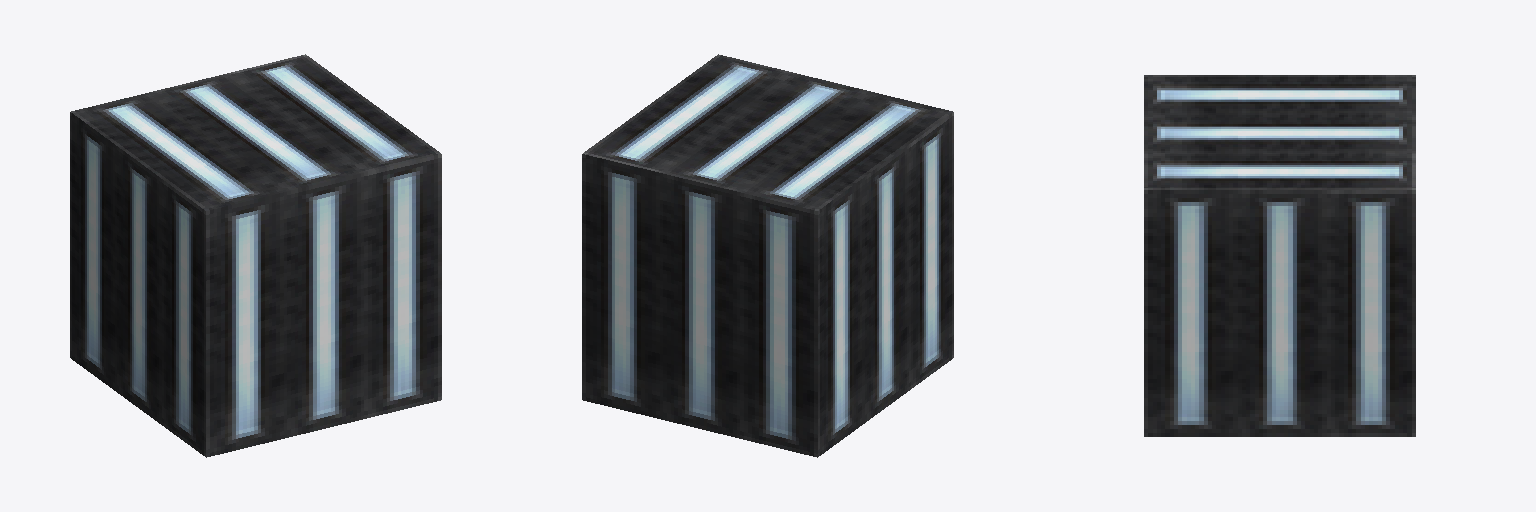
3 renders of one model, left to right at view 1: azimuth 30°, elevation 25°; view 2: azimuth 150°, elevation 25°; view 3: azimuth 270°, elevation 25°, orthographic.
Parts seen in each view (by area): view 1: crate1; view 2: crate1; view 3: crate1.
Part boxes in pixels (x1,y1,x2,y2): crate1: (70,54,441,457); crate1: (582,54,953,457); crate1: (1144,75,1415,436).
Size of the model in its own units: 1 by 1 by 1.
2 materials, 1 textured.